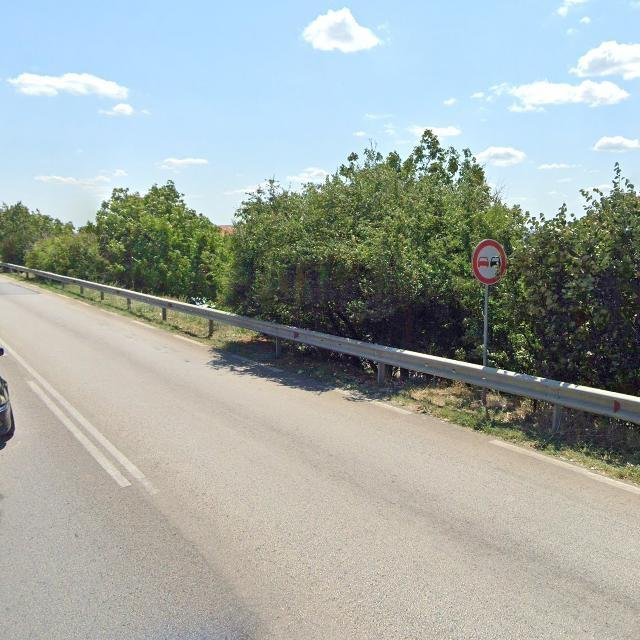forb_overtake: (468, 238, 508, 283)
